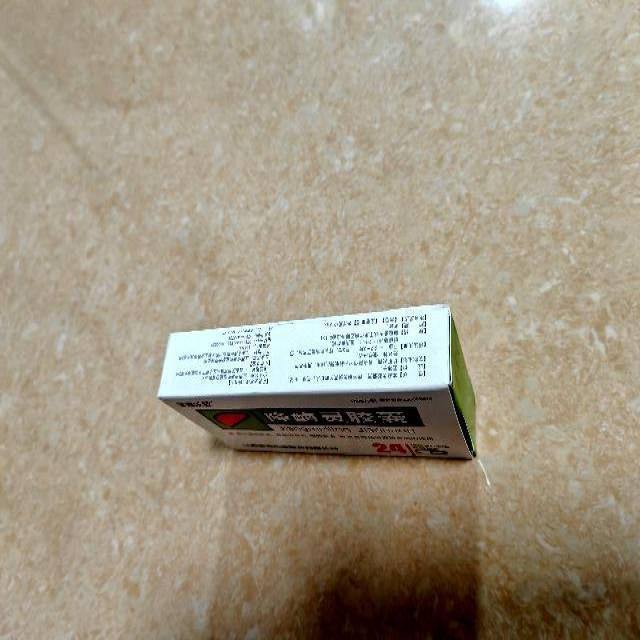box: (160, 304, 476, 462)
